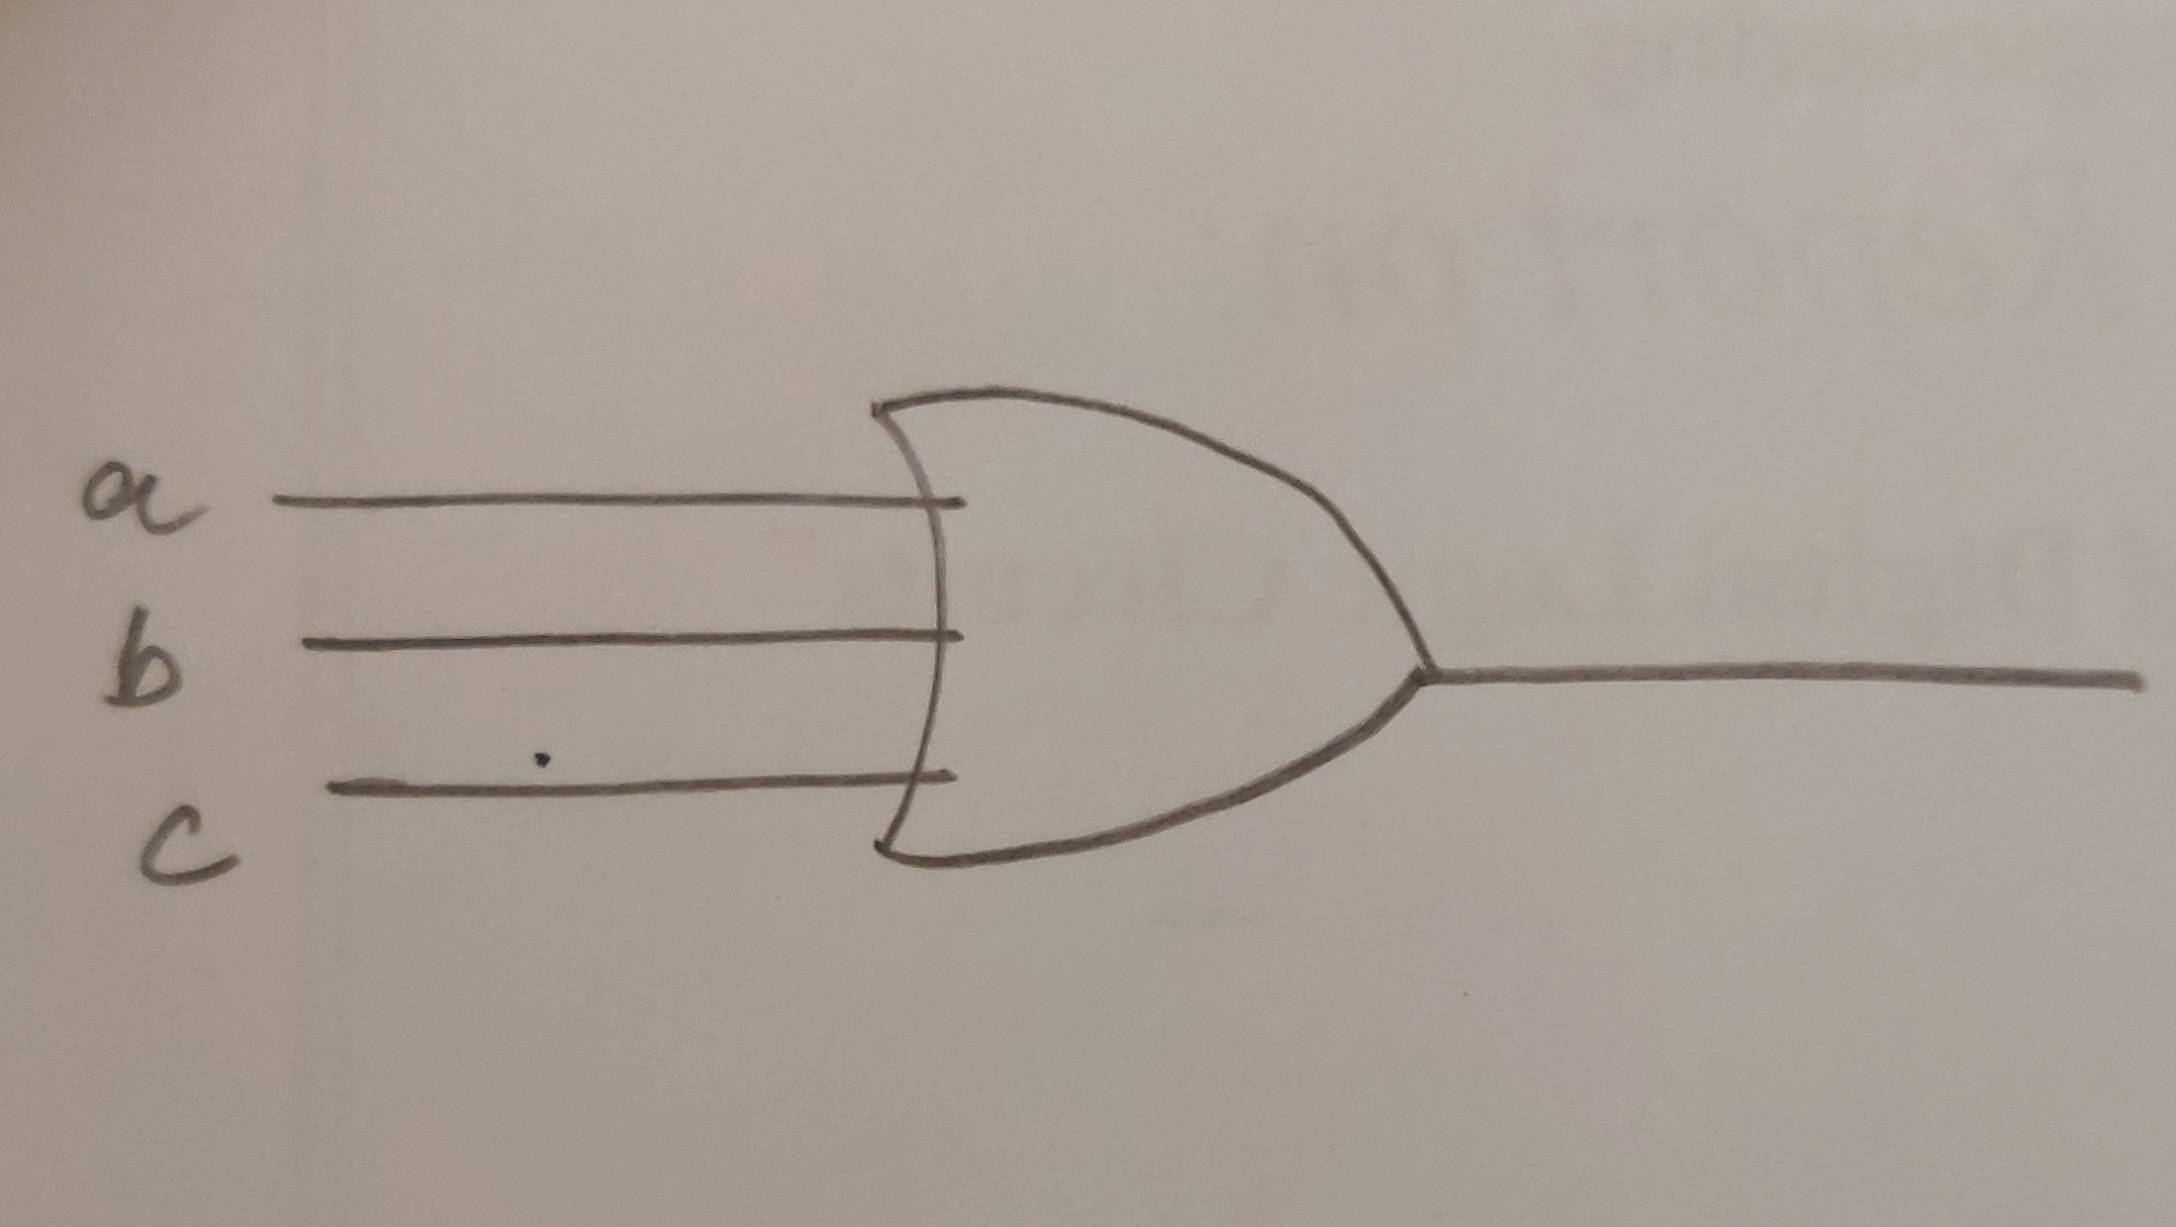or: (749, 259, 1536, 951)
